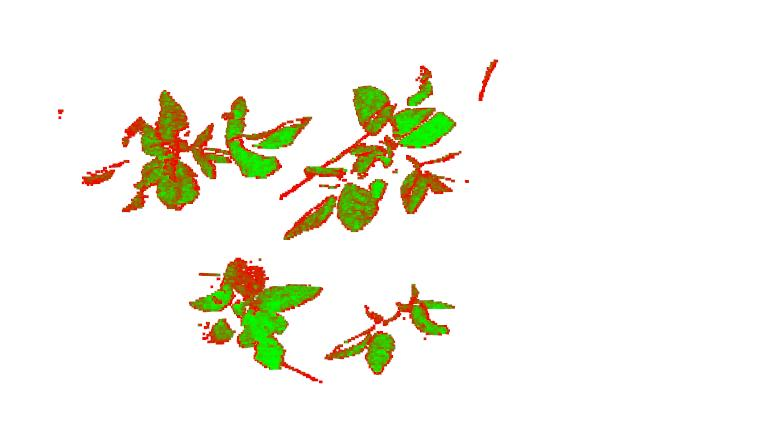mungbean: (279, 66, 464, 240), (83, 88, 315, 212), (190, 259, 324, 398), (327, 282, 457, 374)
